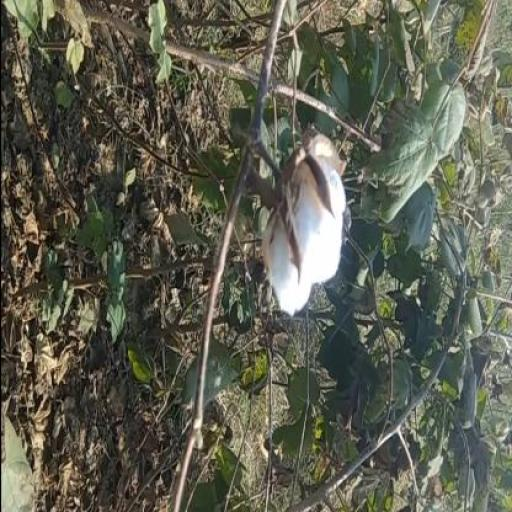cotton_ready: (235, 101, 367, 321)
